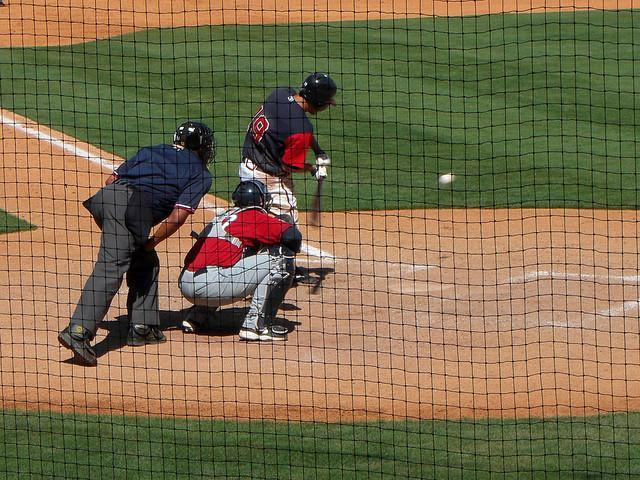ball: (440, 174, 454, 188)
bat: (309, 178, 327, 229)
